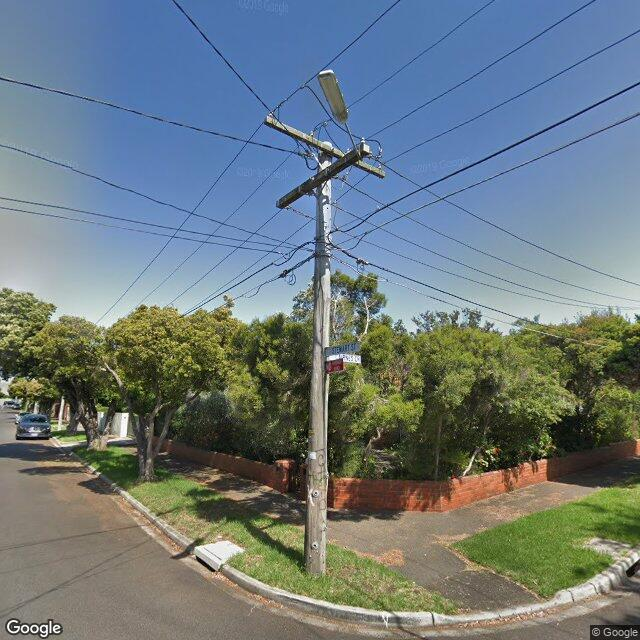crossarm: (266, 98, 386, 180), (276, 136, 374, 210)
streetlight: (318, 70, 356, 152)
timber-pole: (304, 142, 334, 578)
